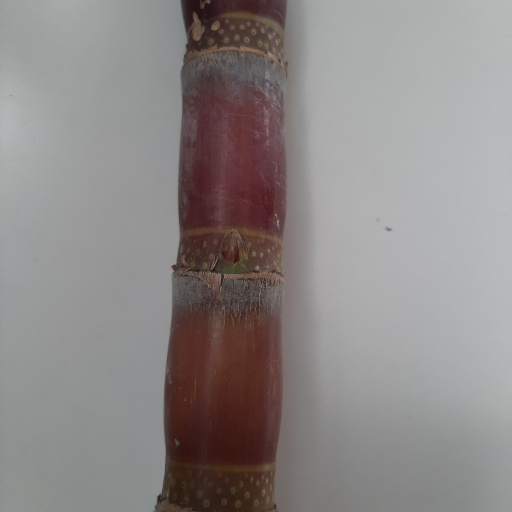Bud: (219, 228, 246, 266)
